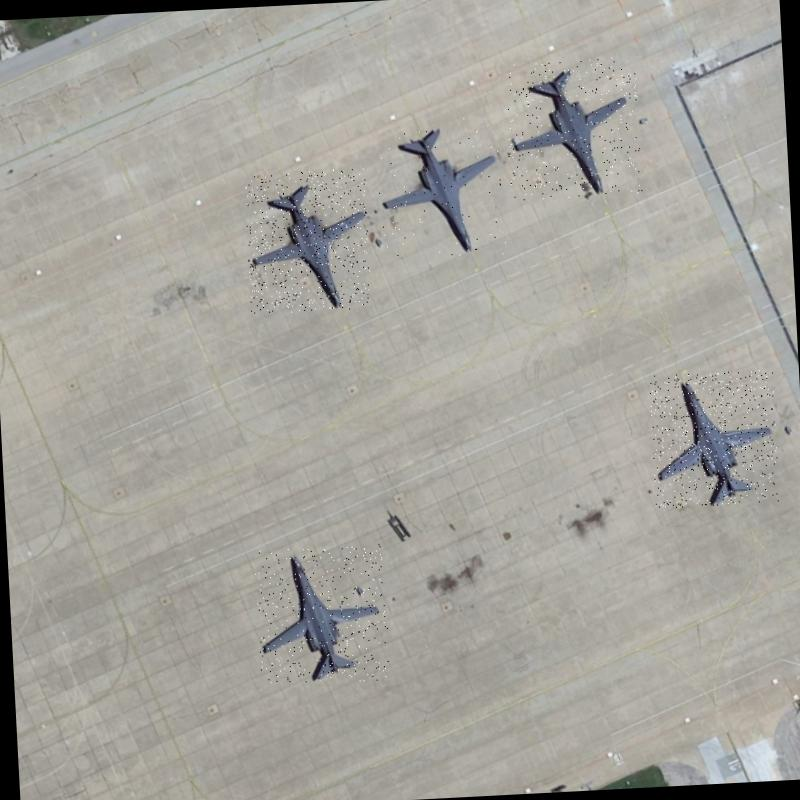A10: (504, 56, 643, 201), (254, 544, 392, 687), (376, 116, 507, 260), (244, 168, 372, 314), (649, 370, 780, 508)
